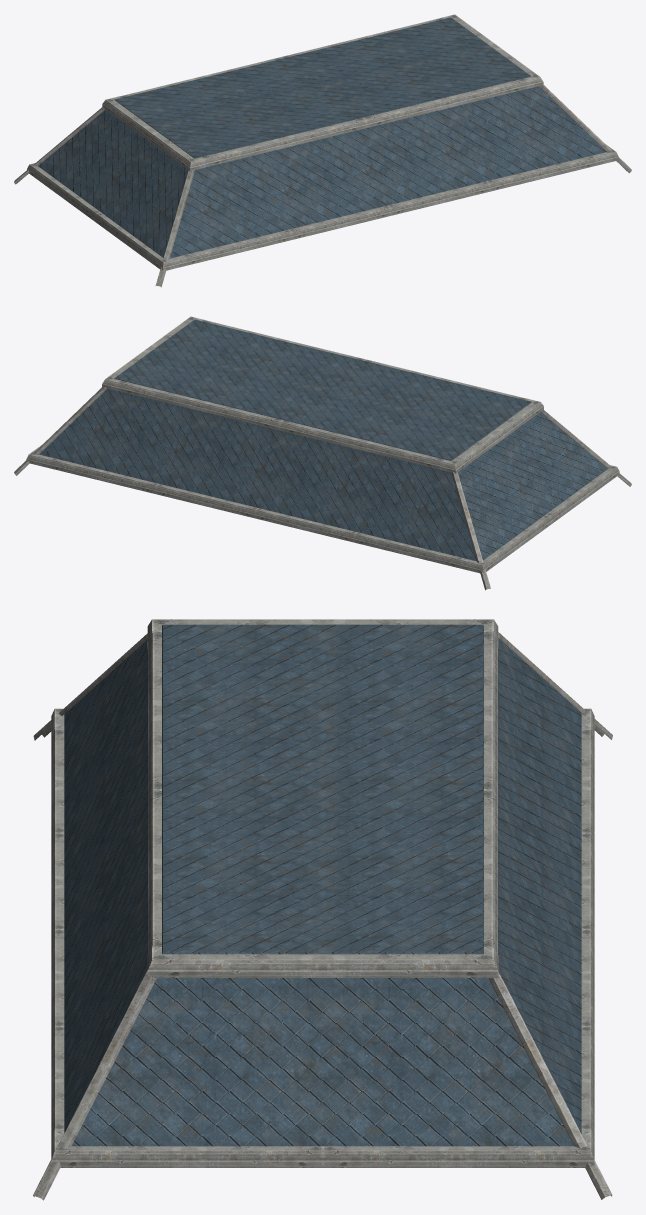
The model's file is bg_lut_lucastle_libraryroof01_sm_psy.FBX.
3 views of the same model, one above another, from view 1: azimuth 30°, elevation 25°; view 2: azimuth 150°, elevation 25°; view 3: azimuth 270°, elevation 25° (orthographic). The views are drawn at different scales.
Parts seen in each view (by area): view 1: bg_lut_lucastle_libraryroof01_sm_psy; view 2: bg_lut_lucastle_libraryroof01_sm_psy; view 3: bg_lut_lucastle_libraryroof01_sm_psy.
Part boxes in pixels (x1,y1,x2,y2): bg_lut_lucastle_libraryroof01_sm_psy: (14,14,631,287); bg_lut_lucastle_libraryroof01_sm_psy: (14,316,631,590); bg_lut_lucastle_libraryroof01_sm_psy: (33,619,612,1200).
Bounding box in the file's own units: 1568 × 283 × 826.
